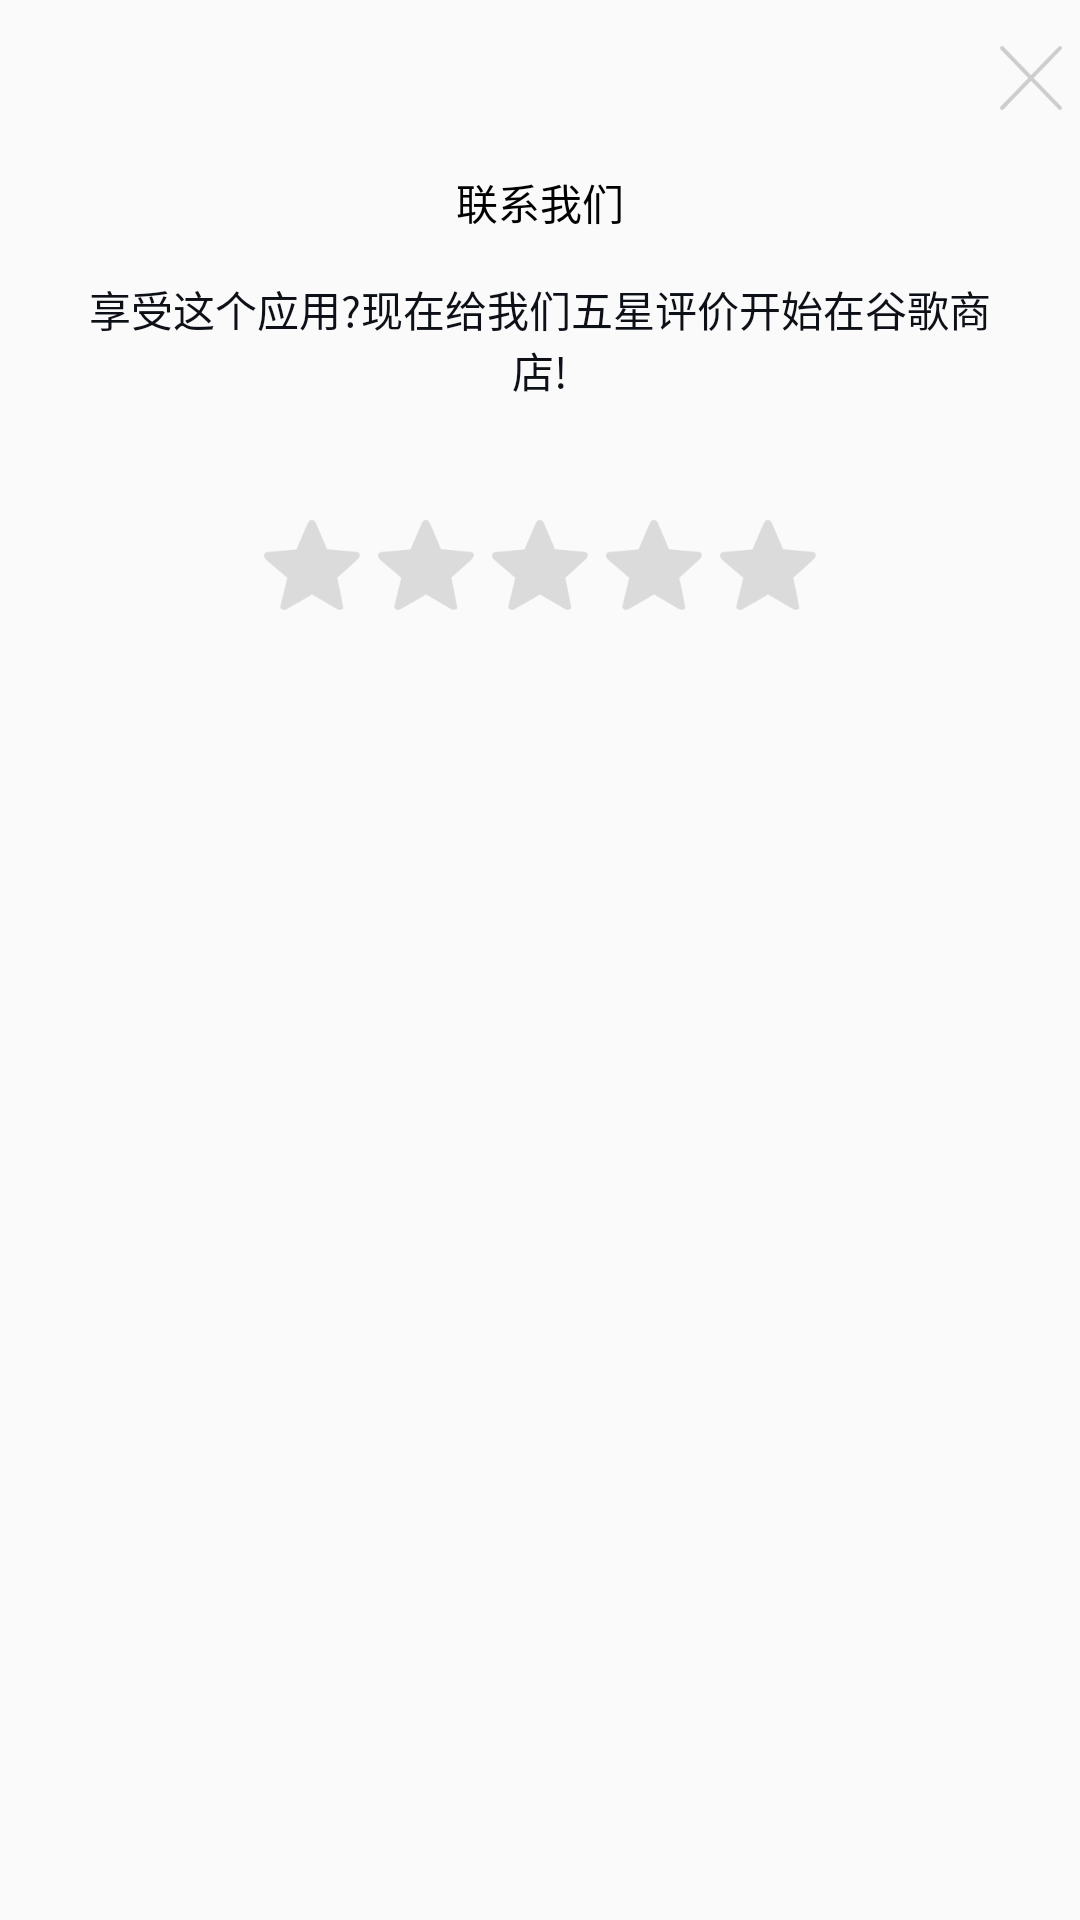

Icon click points for this 1080 × 1920 phone screenshot, format (x=x, y=y):
close: (x=1031, y=78)
